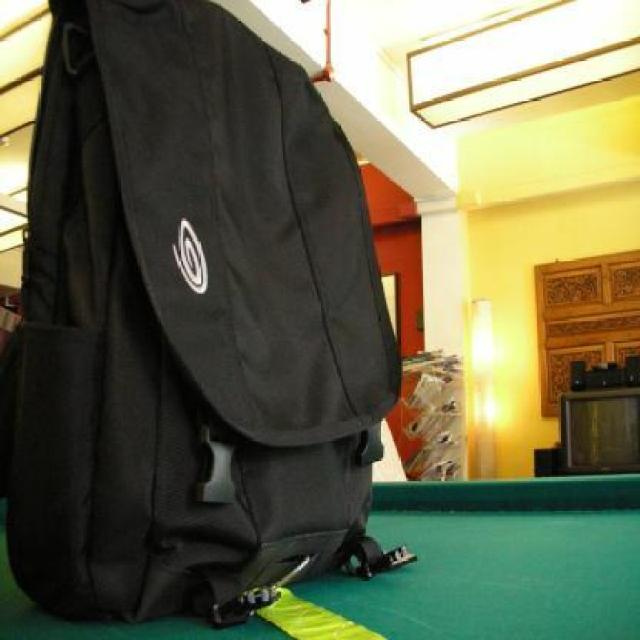backpack: (2, 0, 406, 640)
